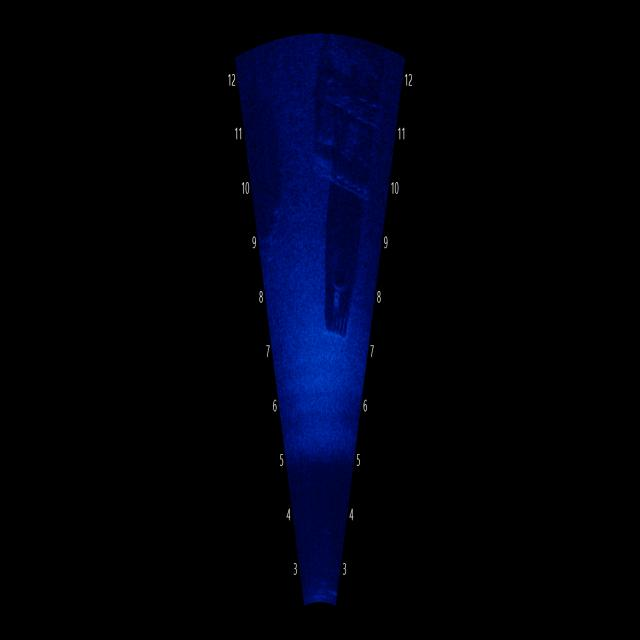square: (296, 41, 389, 180), (313, 220, 362, 347)
